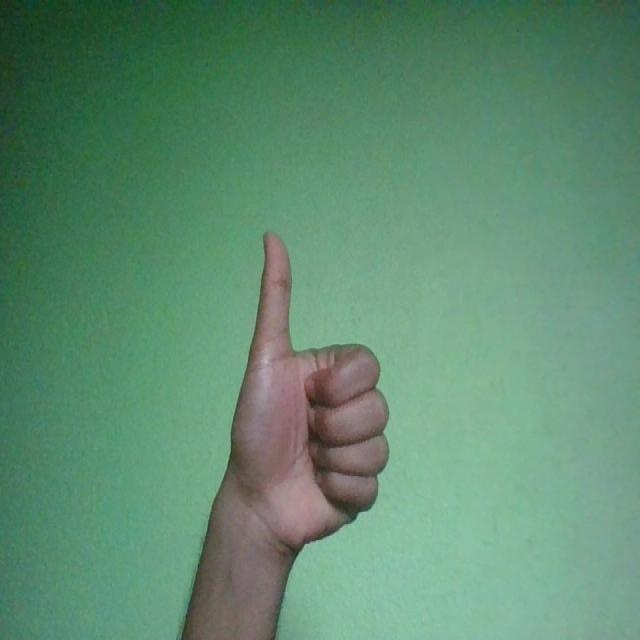Good Job: (231, 228, 389, 556)
